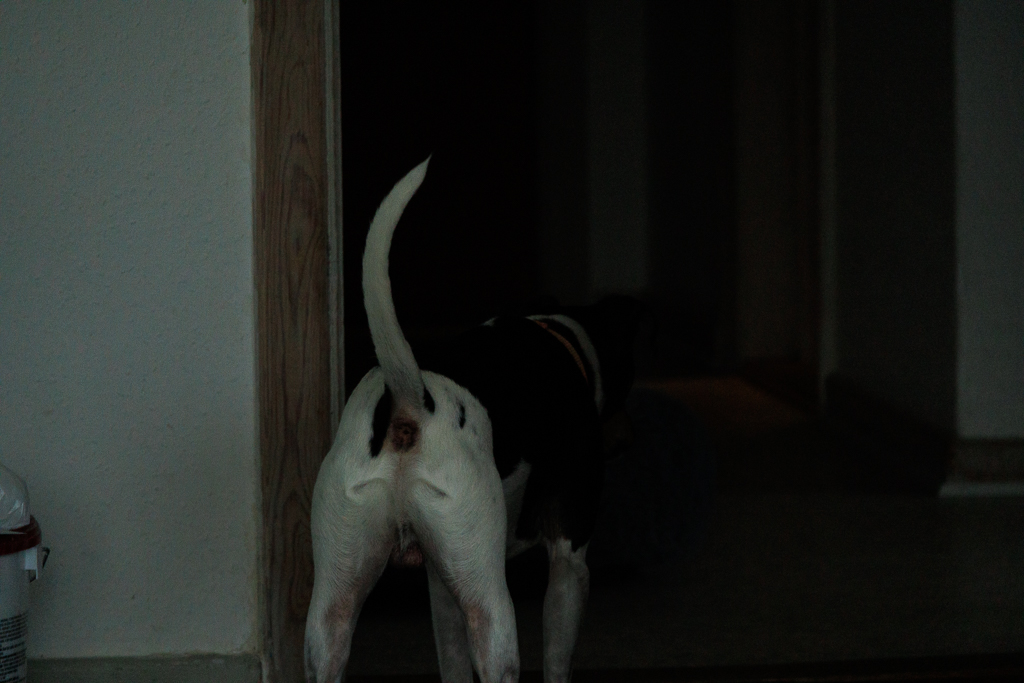Dog: (295, 145, 652, 683)
